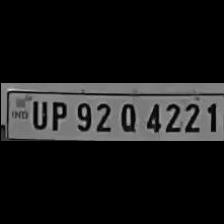1: (201, 101, 221, 133)
2: (180, 100, 202, 132), (92, 100, 112, 132), (161, 100, 181, 132)
4: (140, 100, 162, 132)
9: (70, 98, 92, 132)
P: (46, 99, 68, 131)
Q: (114, 100, 138, 132)
U: (27, 98, 47, 130)
